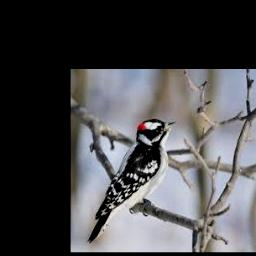Woodpecker: (87, 119, 178, 244)
